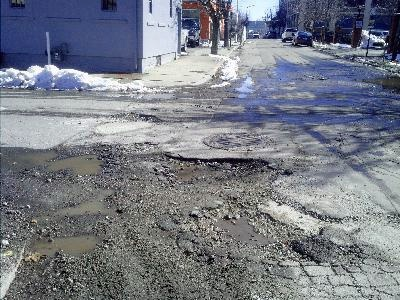pothole: (182, 195, 306, 261), (161, 150, 279, 186), (13, 144, 117, 177), (25, 227, 104, 258), (52, 185, 121, 217), (108, 112, 161, 123)
